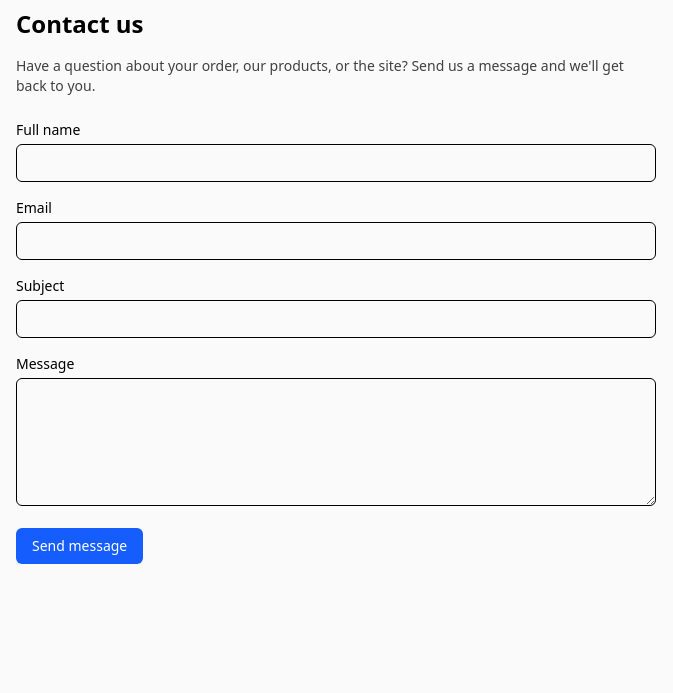
ContactPage › shows validation errors when submitting empty form
Click the button "Send message" at (80, 546), box [16, 528, 143, 564]
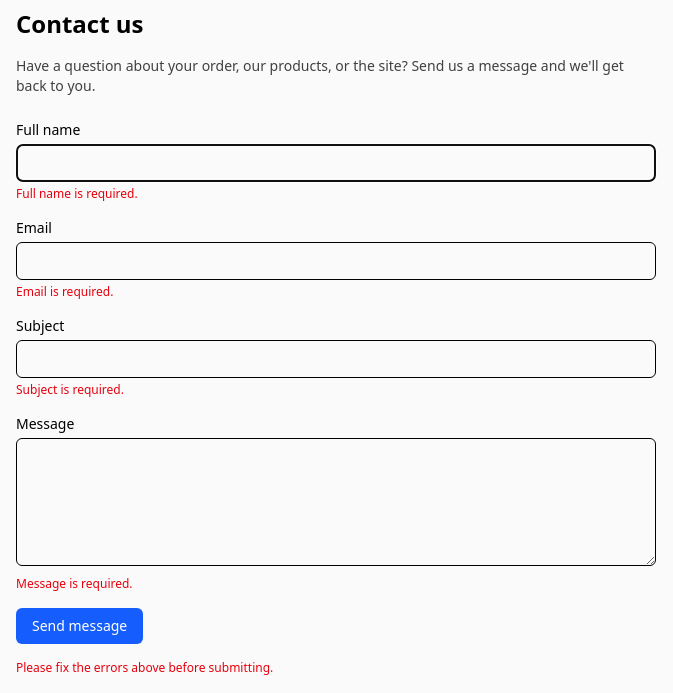
Expected: the text "Full name is required." is shown, [16, 185, 138, 202]
Expected: the text "Email is required." is shown, [16, 283, 113, 300]
Expected: the text "Subject is required." is shown, [16, 381, 124, 398]
